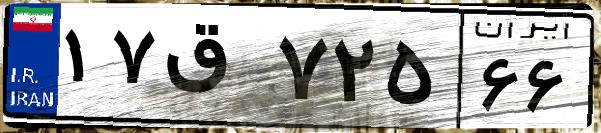1: (57, 26, 110, 100)
2: (330, 28, 385, 110)
5: (385, 28, 445, 110)
6: (475, 38, 525, 113), (525, 38, 570, 115)
7: (270, 28, 330, 110), (110, 28, 158, 98)
ق: (158, 20, 270, 120)
